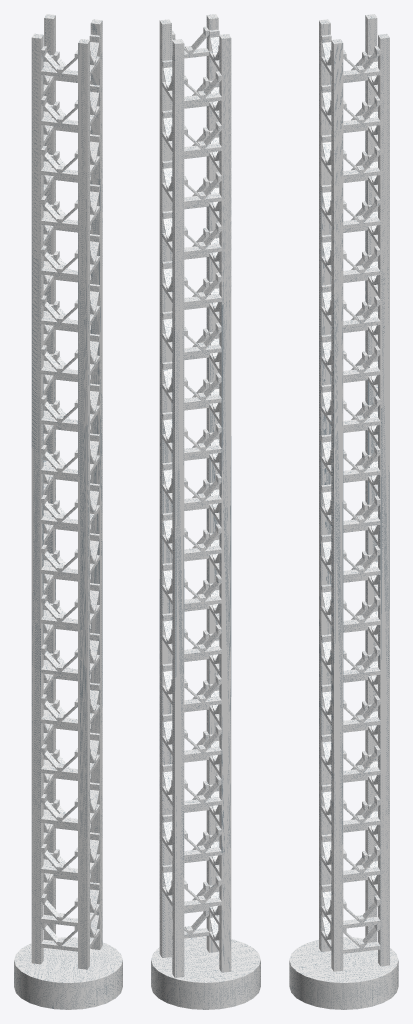
Rendered from tower.obj.
3 renders of one model, left to right at view 1: azimuth 30°, elevation 25°; view 2: azimuth 150°, elevation 25°; view 3: azimuth 330°, elevation 25°, orthographic.
Parts seen in each view (by area): view 1: Mesh76 Group41 Group1 Model, Mesh73 Group40 Group1 Model, Mesh25 Group15 Group2 Group1 Model, Mesh17 Group11 Group2 Group1 Model, Mesh19 Group12 Group2 Group1 Model, Mesh35 Group20 Group2 Group1 Model, Mesh37 Group21 Group2 Group1 Model, Mesh3 Group4 Group2 Group1 Model, Mesh5 Group5 Group2 Group1 Model, Mesh7 Group6 Group2 Group1 Model, Mesh13 Group9 Group2 Group1 Model, Mesh15 Group10 Group2 Group1 Model (+27 smaller); view 2: Mesh76 Group41 Group1 Model, Mesh73 Group40 Group1 Model, Mesh67 Group37 Group22 Group1 Model, Mesh47 Group27 Group22 Group1 Model, Mesh61 Group34 Group22 Group1 Model, Mesh39 Group23 Group22 Group1 Model, Mesh45 Group26 Group22 Group1 Model, Mesh49 Group28 Group22 Group1 Model, Mesh53 Group30 Group22 Group1 Model, Mesh55 Group31 Group22 Group1 Model, Mesh69 Group38 Group22 Group1 Model, Mesh41 Group24 Group22 Group1 Model (+27 smaller); view 3: Mesh76 Group41 Group1 Model, Mesh73 Group40 Group1 Model, Mesh88 Group48 Group42 Group1 Model, Mesh94 Group51 Group42 Group1 Model, Mesh114 Group61 Group42 Group1 Model, Mesh84 Group46 Group42 Group1 Model, Mesh86 Group47 Group42 Group1 Model, Mesh96 Group52 Group42 Group1 Model, Mesh108 Group58 Group42 Group1 Model, Mesh110 Group59 Group42 Group1 Model, Mesh78 Group43 Group42 Group1 Model, Mesh90 Group49 Group42 Group1 Model (+27 smaller).
Boxes of the visible parts, <box> form: Mesh76 Group41 Group1 Model: <box>31,14,102,969</box>; Mesh73 Group40 Group1 Model: <box>14,937,122,1009</box>; Mesh25 Group15 Group2 Group1 Model: <box>41,794,77,826</box>; Mesh17 Group11 Group2 Group1 Model: <box>41,594,77,627</box>; Mesh19 Group12 Group2 Group1 Model: <box>41,644,77,677</box>; Mesh35 Group20 Group2 Group1 Model: <box>41,495,77,527</box>; Mesh37 Group21 Group2 Group1 Model: <box>41,445,77,477</box>; Mesh3 Group4 Group2 Group1 Model: <box>41,245,77,278</box>; Mesh5 Group5 Group2 Group1 Model: <box>41,295,77,328</box>; Mesh7 Group6 Group2 Group1 Model: <box>41,146,77,178</box>; Mesh13 Group9 Group2 Group1 Model: <box>41,96,77,128</box>; Mesh15 Group10 Group2 Group1 Model: <box>41,694,77,727</box>; Mesh76 Group41 Group1 Model: <box>159,14,231,977</box>; Mesh73 Group40 Group1 Model: <box>151,936,260,1009</box>; Mesh67 Group37 Group22 Group1 Model: <box>184,775,221,808</box>; Mesh47 Group27 Group22 Group1 Model: <box>184,272,221,305</box>; Mesh61 Group34 Group22 Group1 Model: <box>184,624,221,657</box>; Mesh39 Group23 Group22 Group1 Model: <box>184,71,221,104</box>; Mesh45 Group26 Group22 Group1 Model: <box>184,222,221,255</box>; Mesh49 Group28 Group22 Group1 Model: <box>184,323,221,356</box>; Mesh53 Group30 Group22 Group1 Model: <box>184,423,221,456</box>; Mesh55 Group31 Group22 Group1 Model: <box>184,474,221,507</box>; Mesh69 Group38 Group22 Group1 Model: <box>184,826,221,859</box>; Mesh41 Group24 Group22 Group1 Model: <box>184,122,221,154</box>; Mesh76 Group41 Group1 Model: <box>319,14,389,971</box>; Mesh73 Group40 Group1 Model: <box>289,937,398,1009</box>; Mesh88 Group48 Group42 Group1 Model: <box>343,396,380,428</box>; Mesh94 Group51 Group42 Group1 Model: <box>343,596,380,628</box>; Mesh114 Group61 Group42 Group1 Model: <box>343,446,380,478</box>; Mesh84 Group46 Group42 Group1 Model: <box>343,146,380,179</box>; Mesh86 Group47 Group42 Group1 Model: <box>343,346,380,378</box>; Mesh96 Group52 Group42 Group1 Model: <box>343,645,380,678</box>; Mesh108 Group58 Group42 Group1 Model: <box>343,196,380,229</box>; Mesh110 Group59 Group42 Group1 Model: <box>343,546,380,578</box>; Mesh78 Group43 Group42 Group1 Model: <box>343,46,380,79</box>; Mesh90 Group49 Group42 Group1 Model: <box>343,96,380,129</box>.
Bounding box in the file's own units: 1593 × 15376 × 1593.
